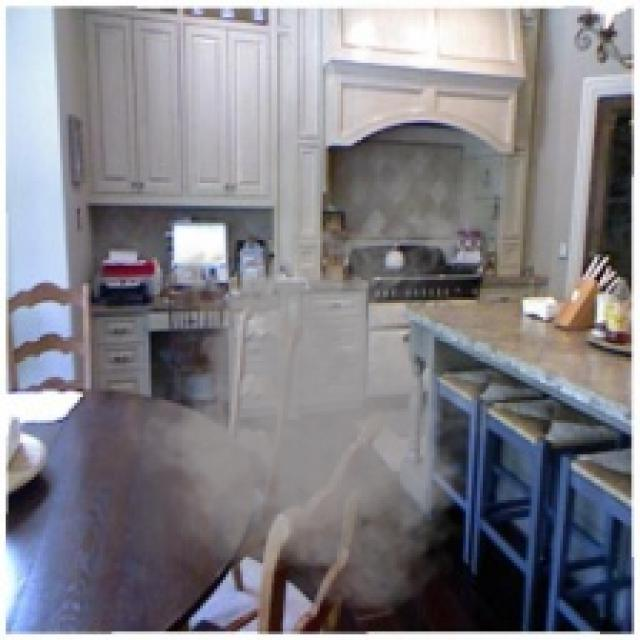Smoke: (102, 200, 528, 617)
